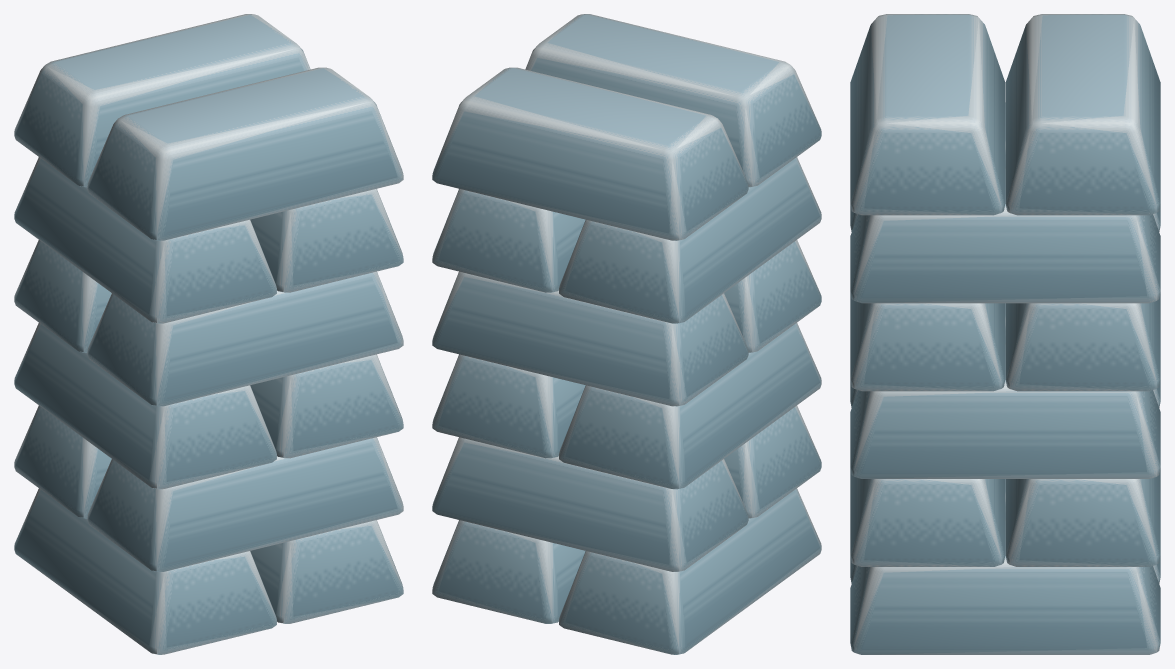
The model's file is Silver_Bars_Stack_Medium.gltf.
3 renders of one model, left to right at view 1: azimuth 30°, elevation 25°; view 2: azimuth 150°, elevation 25°; view 3: azimuth 270°, elevation 25°, orthographic. The views are drawn at different scales.
Parts seen in each view (by area): view 1: Silver_Bars_Stack_Medium; view 2: Silver_Bars_Stack_Medium; view 3: Silver_Bars_Stack_Medium.
Boxes of the visible parts, x1,y1,x2,y2 form: Silver_Bars_Stack_Medium: [14, 14, 403, 654]; Silver_Bars_Stack_Medium: [432, 14, 821, 654]; Silver_Bars_Stack_Medium: [850, 14, 1160, 654].
Bounding box in the file's own units: 0.8 × 1.5 × 0.8.
Materials: 1 (1 with a texture image).
